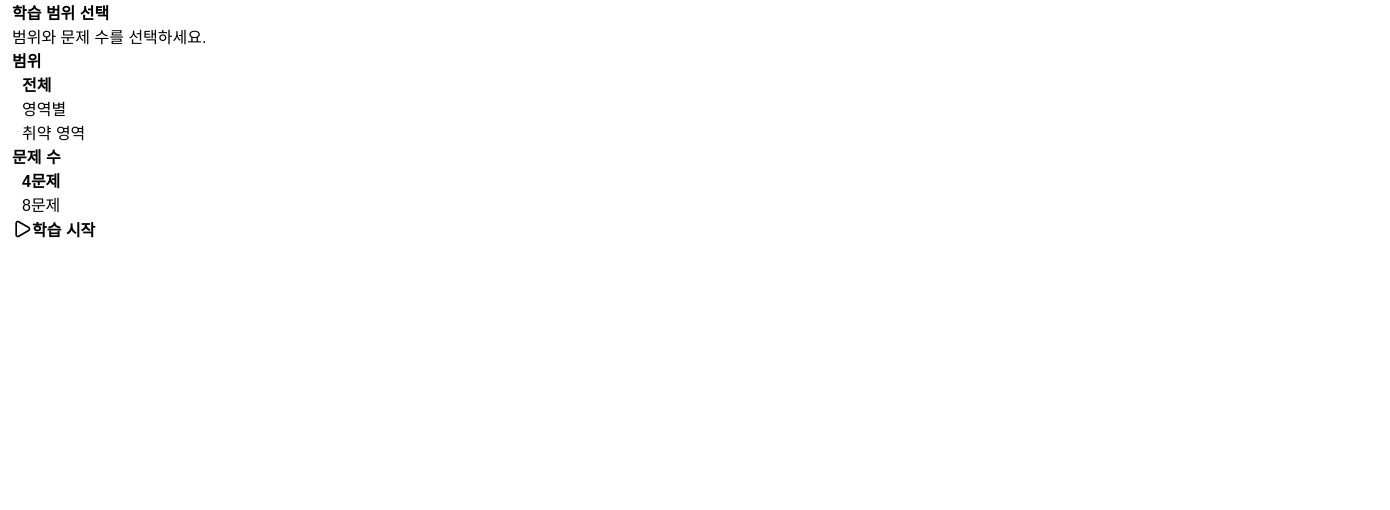
Test: 학습 화면 버튼 위계 › 마지막 문제에서 Pass → 화면을 유지하고 응답만 Pass로 남는다(#185)
Click the button "학습 시작": coordinates (54, 229) [12,216,95,242]
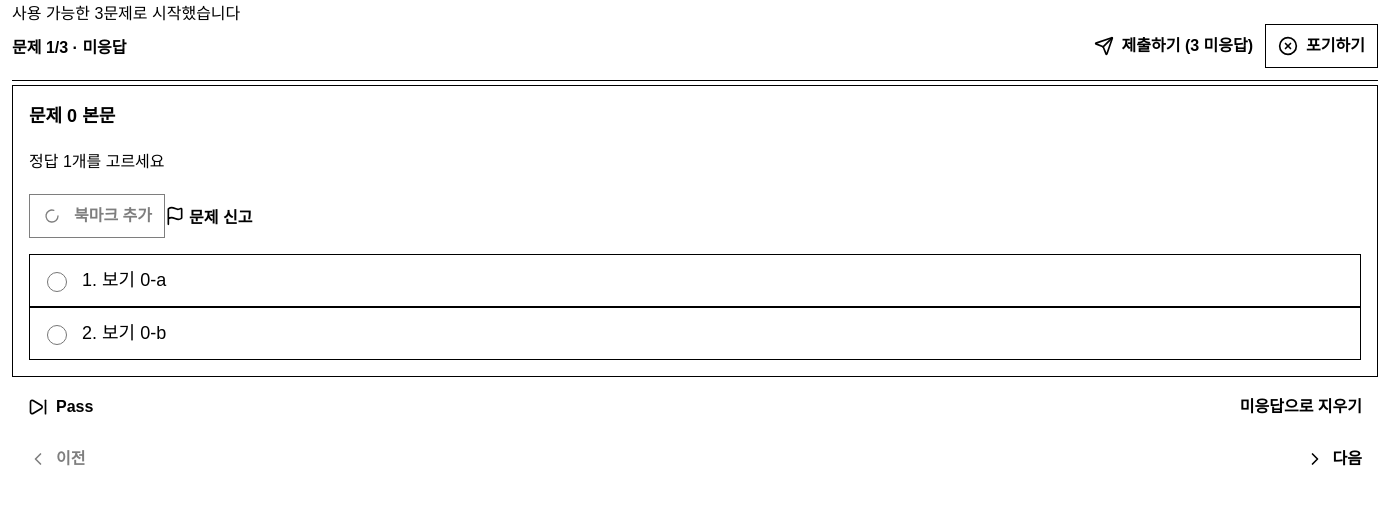
Expected: the text "문제 1/3 · 미응답" is shown, [12,34,127,58]
Click the button "다음": coordinates (1333, 459) [1288,437,1378,481]
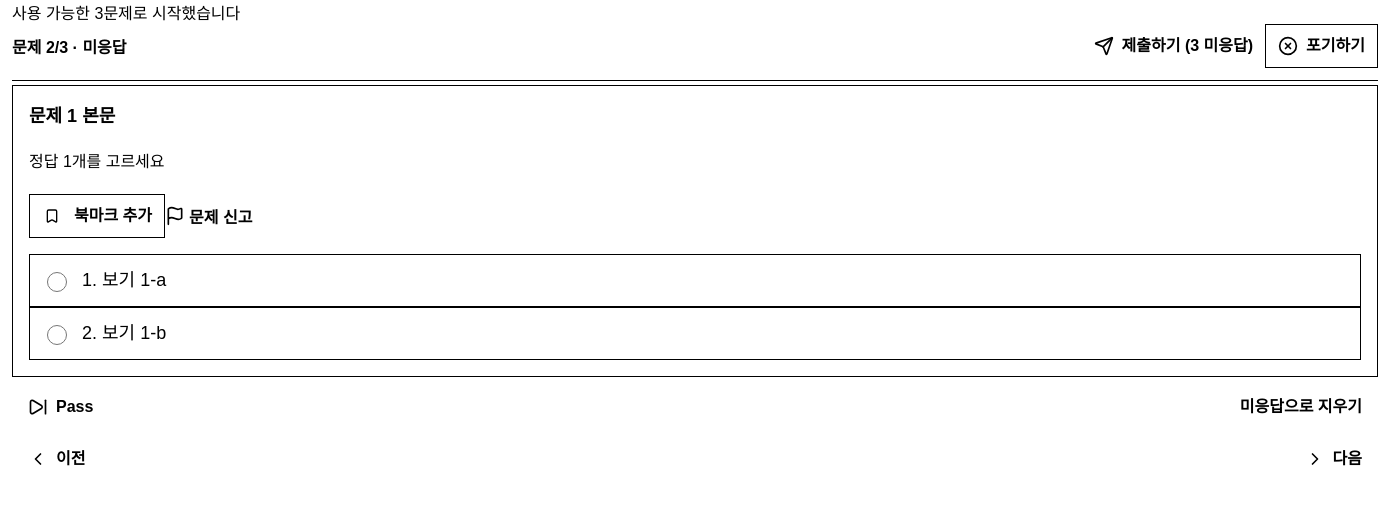
Click the button "다음": coordinates (1333, 459) [1288,437,1378,481]
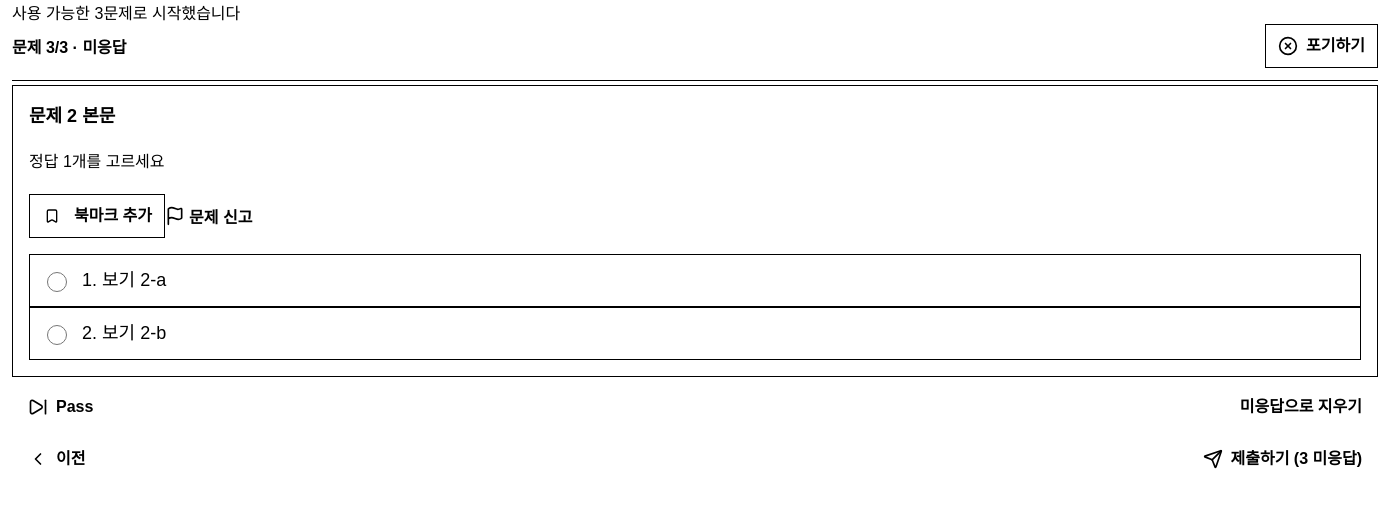
Expected: the text "문제 3/3 · 미응답" is shown, [12,34,127,58]
Click the button "Pass": coordinates (61, 407) [12,385,109,429]
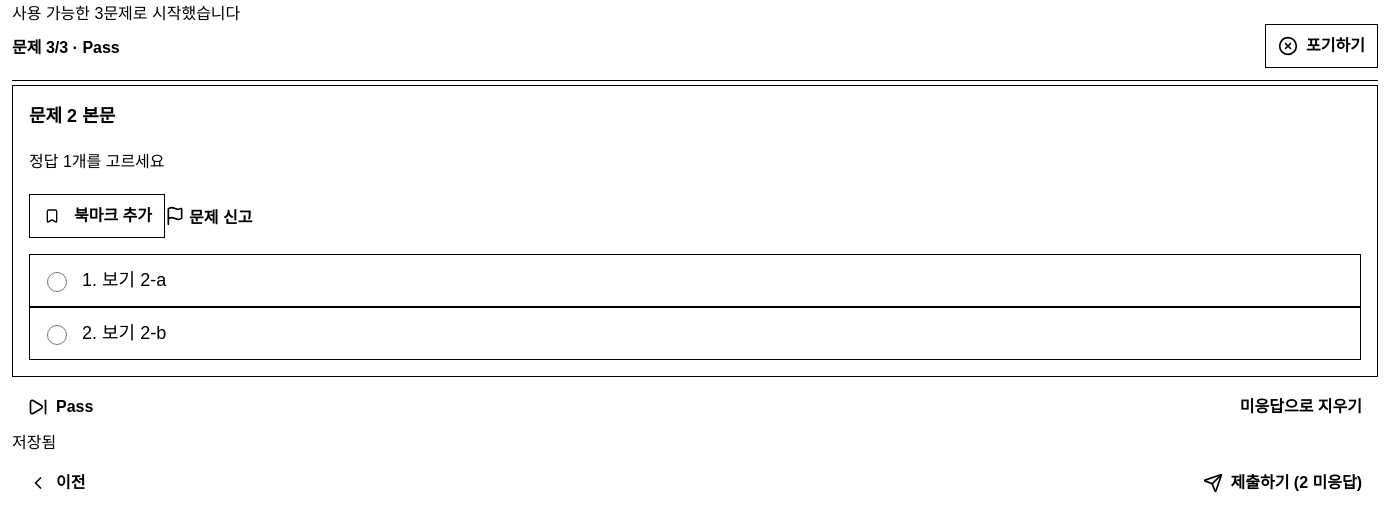
Expected: the heading "문제 2 본문" is shown, [29,106,115,126]
Expected: the text "문제 3/3 · Pass" is shown, [12,34,120,58]
